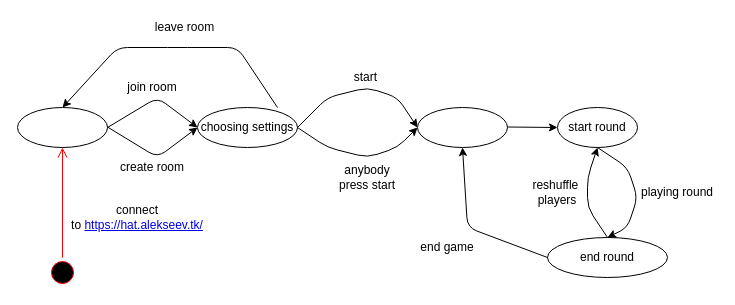
The diagram is 735 pixels wide and 305 high, and some of its shapes have lost their labels. The box of each missing label's shape, as (x1, y1, x2, y2) in pixels:
start game: (416, 106, 508, 148)
start page: (16, 106, 108, 148)
